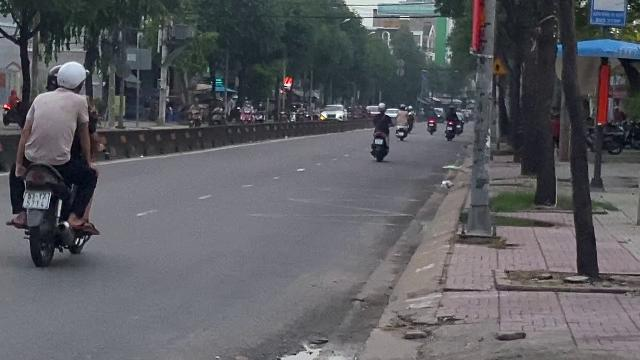helmet: (55, 60, 87, 92), (44, 62, 64, 90)
licenseplate: (22, 191, 50, 209)
motorcyclist: (2, 60, 102, 266)
